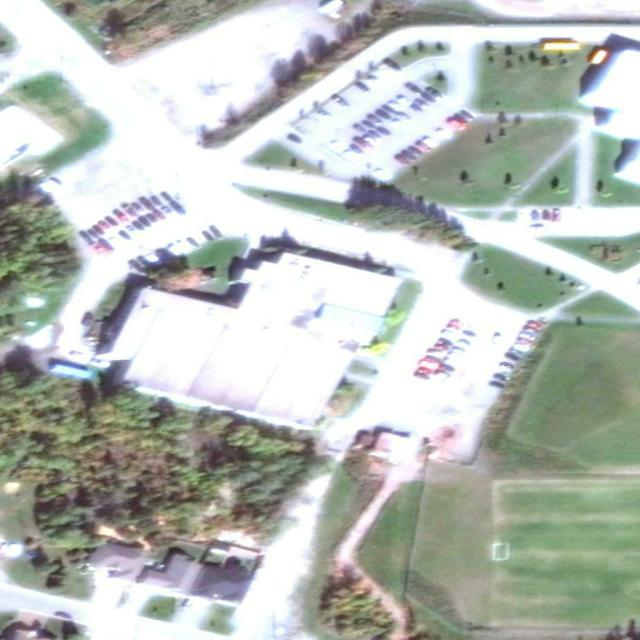small-vehicle: (137, 194, 156, 213), (351, 136, 373, 151), (119, 201, 138, 218), (331, 93, 351, 109), (446, 116, 467, 131), (169, 199, 187, 216), (426, 86, 444, 102), (79, 229, 94, 248), (383, 58, 402, 73), (98, 236, 115, 252), (112, 208, 129, 224), (404, 82, 423, 96), (286, 132, 303, 146), (353, 81, 371, 94), (526, 319, 544, 332), (407, 144, 422, 159), (401, 148, 417, 162), (422, 136, 439, 149), (374, 108, 391, 121), (492, 372, 510, 384), (368, 112, 383, 126), (92, 242, 107, 256), (209, 225, 224, 239), (82, 312, 96, 327), (415, 140, 431, 153), (459, 109, 475, 122), (395, 153, 411, 166), (388, 99, 404, 112), (514, 342, 531, 354), (424, 350, 446, 359), (516, 337, 534, 348), (454, 112, 468, 126), (152, 209, 167, 222), (352, 122, 367, 135), (104, 215, 119, 228), (128, 259, 143, 272), (413, 98, 429, 110), (54, 610, 73, 620), (412, 372, 431, 382), (504, 351, 521, 362), (519, 331, 536, 342), (396, 94, 409, 108), (138, 215, 151, 229), (91, 223, 105, 236), (137, 254, 151, 267), (421, 92, 436, 104), (362, 119, 377, 131), (488, 381, 506, 391), (150, 194, 162, 209), (368, 130, 384, 141), (441, 329, 458, 339), (186, 236, 199, 249), (381, 104, 395, 116), (131, 202, 145, 214), (117, 230, 132, 241), (97, 219, 112, 230), (499, 362, 515, 372), (508, 347, 524, 357), (522, 325, 538, 335), (146, 213, 159, 225), (131, 220, 144, 232), (87, 228, 99, 241), (160, 191, 172, 204), (201, 229, 213, 242), (409, 104, 424, 114), (396, 111, 411, 121), (376, 126, 391, 136), (438, 337, 454, 346), (161, 205, 174, 216), (349, 144, 363, 154), (439, 364, 456, 372), (451, 346, 466, 355), (436, 371, 451, 380), (446, 323, 461, 332), (124, 224, 136, 235), (462, 329, 475, 338), (492, 332, 502, 343), (457, 339, 469, 348), (553, 209, 561, 222), (450, 319, 462, 327), (542, 209, 550, 220), (434, 345, 448, 351), (531, 211, 539, 221)
